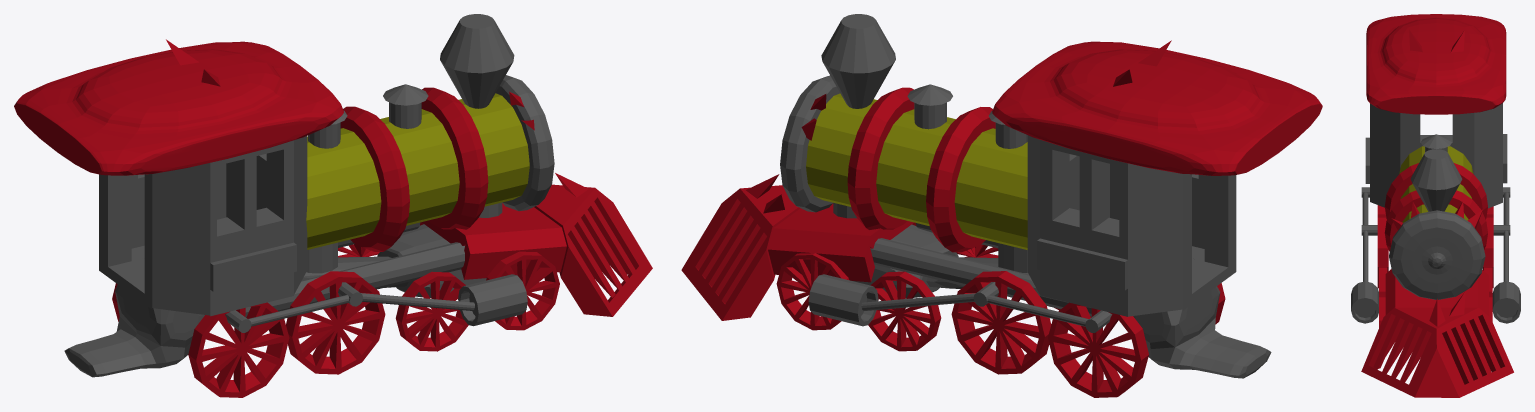
File: LocomotiveROCK.fbx
The picture shows the model from 3 angles, left to right: view 1: azimuth 30°, elevation 25°; view 2: azimuth 150°, elevation 25°; view 3: azimuth 270°, elevation 25°; orthographic projection. The views are drawn at different scales.
Visible parts, largest first — view 1: Toit, cabineBase, tube tqt, Front, LienRouesEtWagon, bigwheel.001, bigwheel, liensExtérieursRoues.001, MainChemney, tour métallique 2, tour métallique, smallwheel.002 (+6 smaller); view 2: Toit, cabineBase, tube tqt, Front, LienRouesEtWagon, bigwheel.002, bigwheel.003, liensExtérieursRoues, MainChemney, tour métallique 2, tour métallique, smallwheel.001 (+6 smaller); view 3: Toit, Front, cabineBase, endOfTube, MainChemney, liensExtérieursRoues, liensExtérieursRoues.001, tour métallique, tour métallique 2, tube tqt, bigwheel.001, bigwheel.002 (+7 smaller).
Part boxes in pixels (x1,y1,x2,y2): Toit: [14, 41, 343, 175]; cabineBase: [99, 136, 307, 316]; tube tqt: [306, 93, 529, 249]; Front: [420, 184, 652, 316]; LienRouesEtWagon: [64, 224, 486, 377]; bigwheel.001: [286, 271, 385, 374]; bigwheel: [188, 302, 289, 397]; liensExtérieursRoues.001: [225, 274, 527, 332]; MainChemney: [440, 14, 514, 108]; tour métallique 2: [340, 106, 409, 251]; tour métallique: [421, 87, 488, 229]; smallwheel.002: [395, 271, 468, 351]; Toit: [992, 41, 1322, 175]; cabineBase: [1027, 135, 1236, 316]; tube tqt: [806, 93, 1027, 249]; Front: [681, 185, 916, 320]; LienRouesEtWagon: [853, 224, 1271, 378]; bigwheel.002: [951, 271, 1051, 374]; bigwheel.003: [1048, 302, 1148, 397]; liensExtérieursRoues: [808, 274, 1112, 332]; MainChemney: [821, 14, 895, 108]; tour métallique 2: [926, 107, 995, 252]; tour métallique: [847, 87, 914, 229]; smallwheel.001: [868, 271, 941, 351]; Toit: [1366, 14, 1506, 114]; Front: [1361, 269, 1513, 397]; cabineBase: [1365, 103, 1507, 208]; endOfTube: [1389, 210, 1485, 299]; MainChemney: [1410, 149, 1462, 211]; liensExtérieursRoues: [1492, 187, 1520, 323]; liensExtérieursRoues.001: [1351, 187, 1378, 323]; tour métallique: [1384, 190, 1487, 251]; tour métallique 2: [1384, 163, 1487, 219]; tube tqt: [1399, 146, 1473, 222]; bigwheel.001: [1377, 214, 1388, 288]; bigwheel.002: [1483, 214, 1493, 288].
Size of the model in its own units: 4860 by 2550 by 1790.
